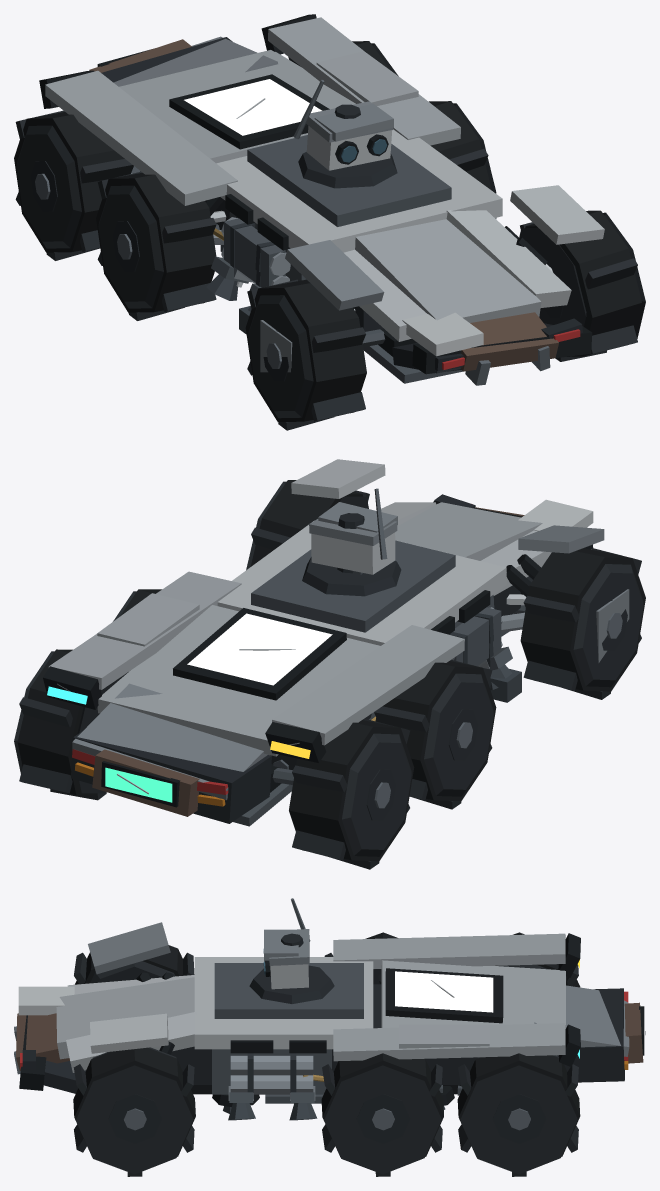
Rendered from r47x_recon_rover_d1_lod1.glb.
3 renders of one model, top to bottom at view 1: azimuth 30°, elevation 25°; view 2: azimuth 150°, elevation 25°; view 3: azimuth 270°, elevation 25°, orthographic. The views are drawn at different scales.
Parts seen in each view (by area): view 1: ZONE_FRONT_BUMPER, CHASSIS_ARMOR_BODY, WHEEL_ML, WHEEL_FL, ZONE_FLANK_NEG_X, WHEEL_RL, WHEEL_FR, ZONE_FLANK_POS_X, DISPLAY_FDAI_TELEMETRY_PANEL, ZONE_REAR_PANEL, SENSOR_MAST_HEAD, DEBRIS_FENDER_POS_X (+6 smaller); view 2: CHASSIS_ARMOR_BODY, ZONE_REAR_PANEL, WHEEL_FL, WHEEL_RL, ZONE_FRONT_BUMPER, ZONE_FLANK_NEG_X, WHEEL_ML, WHEEL_RR, ZONE_FLANK_POS_X, DISPLAY_FDAI_TELEMETRY_PANEL, SENSOR_MAST_HEAD, WHEEL_FR (+9 smaller); view 3: CHASSIS_ARMOR_BODY, ZONE_FRONT_BUMPER, WHEEL_FR, ZONE_FLANK_POS_X, WHEEL_RR, WHEEL_MR, ZONE_FLANK_NEG_X, ZONE_REAR_PANEL, DISPLAY_FDAI_TELEMETRY_PANEL, WHEEL_FL, DEBRIS_FENDER_POS_X, SENSOR_MAST_HEAD (+5 smaller).
Boxes of the visible parts, x1,y1,x2,y2 form: ZONE_FRONT_BUMPER: [285, 185, 604, 385]; CHASSIS_ARMOR_BODY: [119, 50, 502, 356]; WHEEL_ML: [96, 171, 216, 320]; WHEEL_FL: [245, 279, 366, 430]; ZONE_FLANK_NEG_X: [39, 70, 306, 287]; WHEEL_RL: [14, 110, 133, 260]; WHEEL_FR: [519, 210, 645, 361]; ZONE_FLANK_POS_X: [261, 14, 496, 218]; DISPLAY_FDAI_TELEMETRY_PANEL: [184, 79, 322, 135]; ZONE_REAR_PANEL: [89, 36, 277, 86]; SENSOR_MAST_HEAD: [293, 80, 393, 170]; DEBRIS_FENDER_POS_X: [316, 51, 418, 105]; CHASSIS_ARMOR_BODY: [97, 520, 520, 792]; ZONE_REAR_PANEL: [71, 683, 292, 826]; WHEEL_FL: [520, 548, 645, 699]; WHEEL_RL: [289, 718, 414, 869]; ZONE_FRONT_BUMPER: [291, 459, 604, 636]; ZONE_FLANK_NEG_X: [265, 590, 502, 762]; WHEEL_ML: [374, 659, 496, 809]; WHEEL_RR: [14, 649, 128, 800]; ZONE_FLANK_POS_X: [43, 571, 241, 709]; DISPLAY_FDAI_TELEMETRY_PANEL: [187, 613, 332, 685]; SENSOR_MAST_HEAD: [309, 488, 397, 574]; WHEEL_FR: [246, 480, 369, 570]; CHASSIS_ARMOR_BODY: [171, 957, 565, 1103]; ZONE_FRONT_BUMPER: [14, 922, 196, 1093]; WHEEL_FR: [73, 1047, 195, 1176]; ZONE_FLANK_POS_X: [212, 1023, 580, 1107]; WHEEL_RR: [457, 1053, 580, 1176]; WHEEL_MR: [321, 1053, 443, 1176]; ZONE_FLANK_NEG_X: [333, 933, 580, 977]; ZONE_REAR_PANEL: [457, 985, 644, 1095]; DISPLAY_FDAI_TELEMETRY_PANEL: [395, 971, 493, 1012]; WHEEL_FL: [74, 945, 194, 984]; DEBRIS_FENDER_POS_X: [399, 1024, 489, 1048]; SENSOR_MAST_HEAD: [263, 898, 310, 989].
Size of the model in its own units: 2.44 by 1.68 by 4.74.
